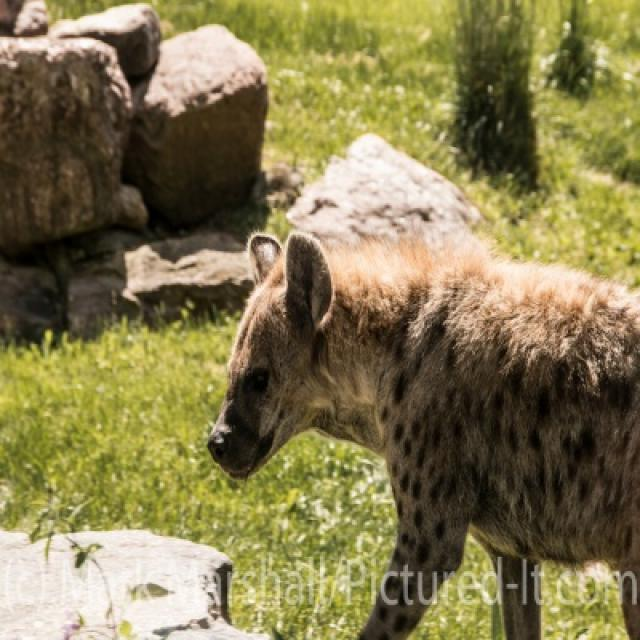hyena: (208, 231, 638, 638)
